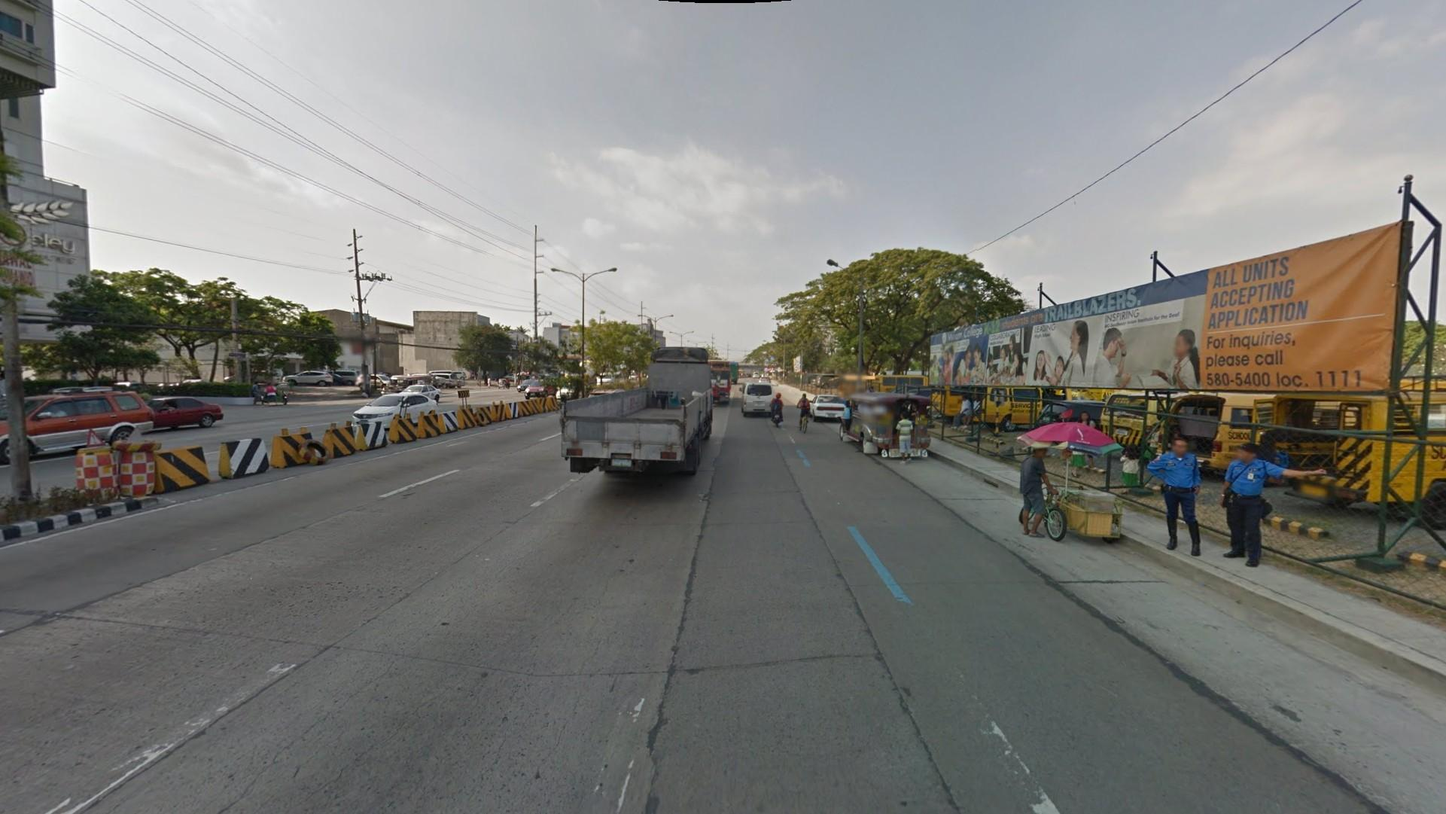cyclist: (795, 393, 812, 435)
pedestrian: (1217, 442, 1327, 568), (1145, 436, 1206, 557), (1020, 441, 1059, 540), (1077, 410, 1099, 469), (1118, 443, 1141, 495), (893, 410, 914, 466), (1144, 422, 1163, 470), (1069, 429, 1087, 479), (949, 393, 972, 432), (961, 392, 982, 433), (486, 375, 492, 388)
